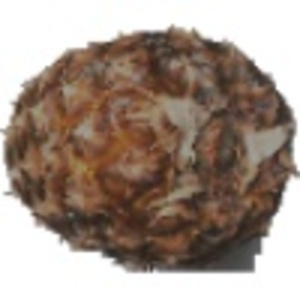abacaxi: (6, 22, 294, 267)
